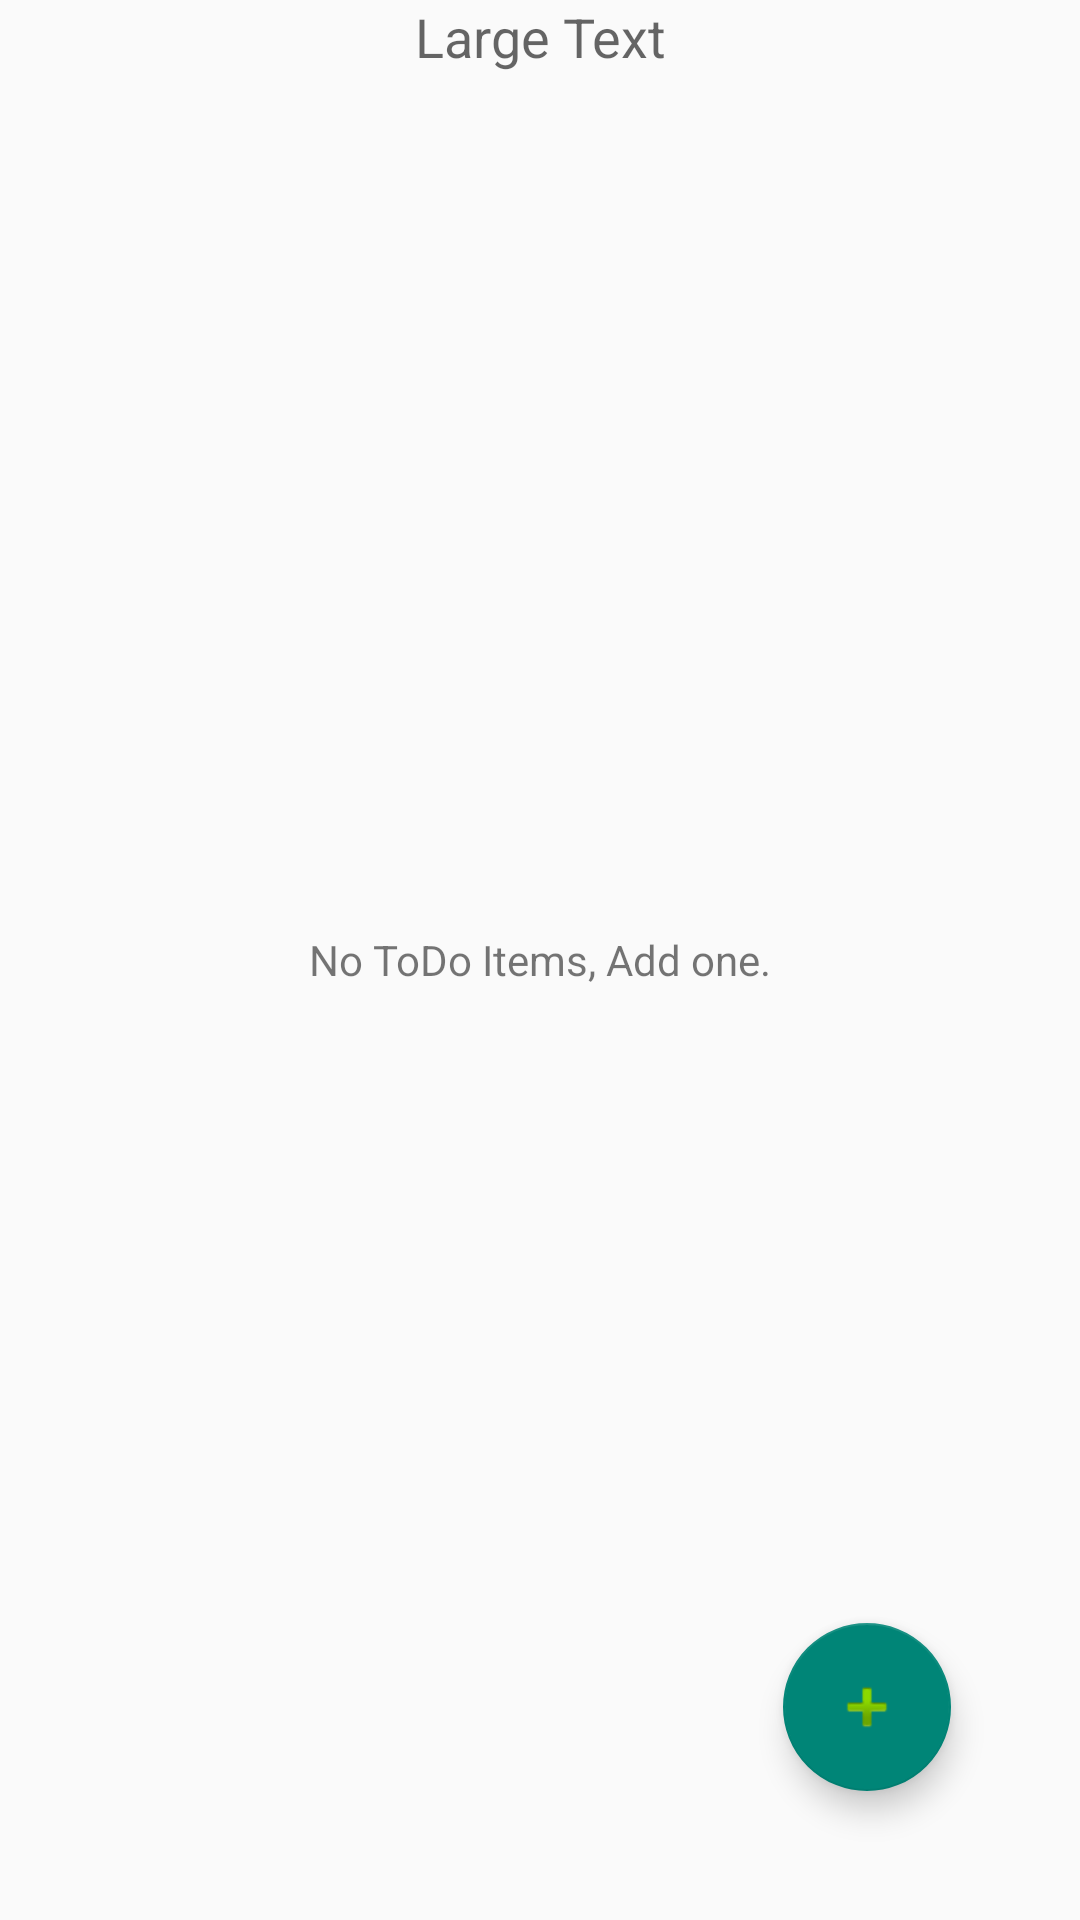

Where to tap for icons on this 1080*1920 app screen, as [x,y]:
add: [867,1707]
